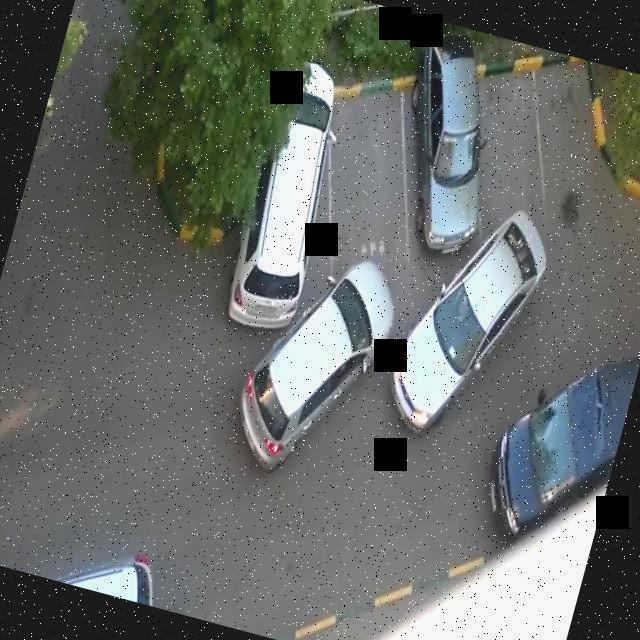space-empty: (512, 52, 630, 227)
space-occupied: (223, 69, 359, 346), (370, 36, 520, 282), (306, 65, 445, 315), (451, 50, 565, 236)
